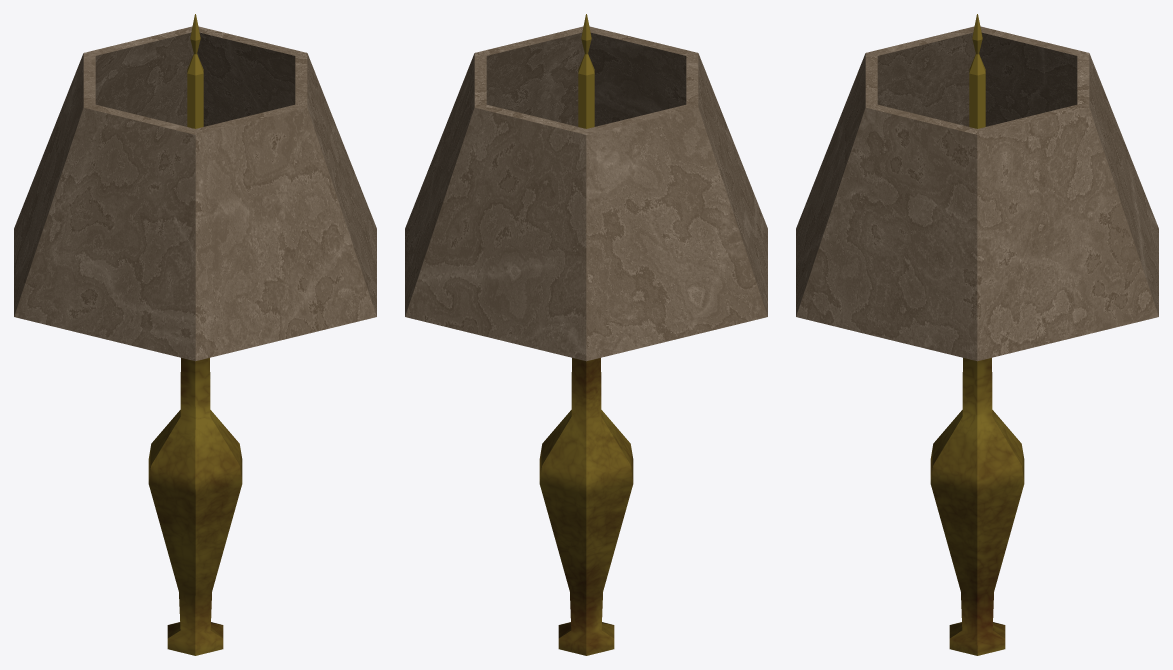
Rendered from EN_Lamp.fbx.
3 views of the same model, side by side, from view 1: azimuth 30°, elevation 25°; view 2: azimuth 150°, elevation 25°; view 3: azimuth 270°, elevation 25° (orthographic).
Visible parts, largest first — view 1: pCylinder7; view 2: pCylinder7; view 3: pCylinder7.
Boxes of the visible parts, x1=… form: pCylinder7: x1=14, y1=14, x2=376, y2=655; pCylinder7: x1=405, y1=14, x2=767, y2=655; pCylinder7: x1=796, y1=14, x2=1158, y2=655.
Bounding box in the file's own units: 2.24 × 3.71 × 1.94.
